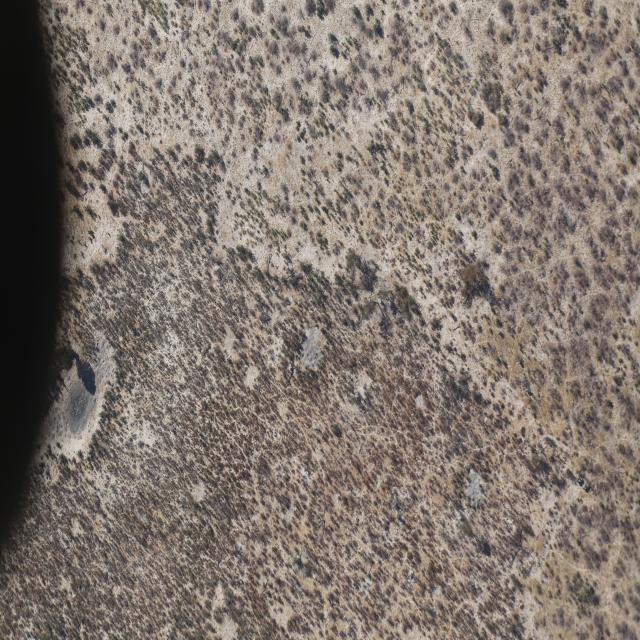elephant: (574, 472, 582, 482), (581, 479, 589, 488), (587, 583, 592, 593), (524, 387, 532, 393), (576, 594, 581, 602)
